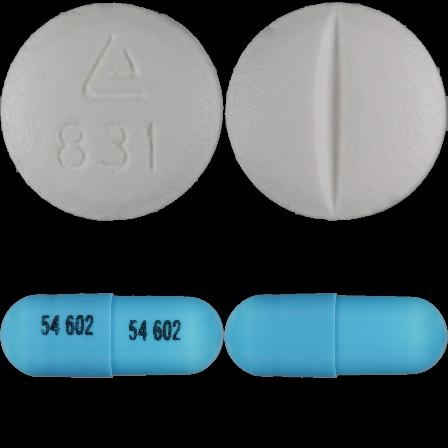68258-6019: (0, 0, 224, 224)
